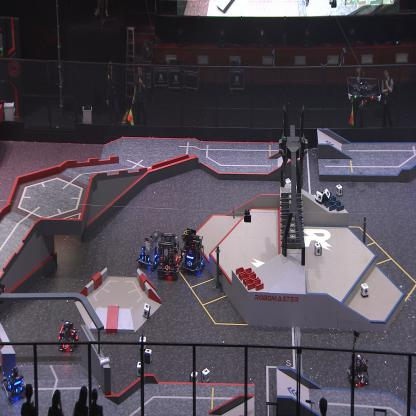car: (180, 225, 206, 275), (157, 230, 180, 276), (137, 228, 161, 270), (1, 366, 27, 404), (346, 354, 370, 388), (58, 320, 78, 352)
